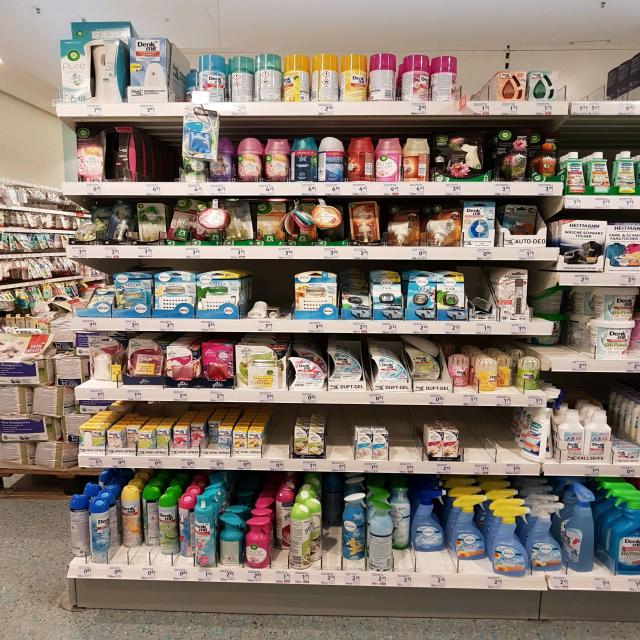void: (467, 409, 513, 479), (249, 263, 288, 332), (466, 36, 494, 118), (602, 46, 632, 118), (146, 125, 174, 198), (568, 48, 594, 119), (395, 408, 419, 474), (268, 411, 290, 472), (330, 412, 352, 472)
